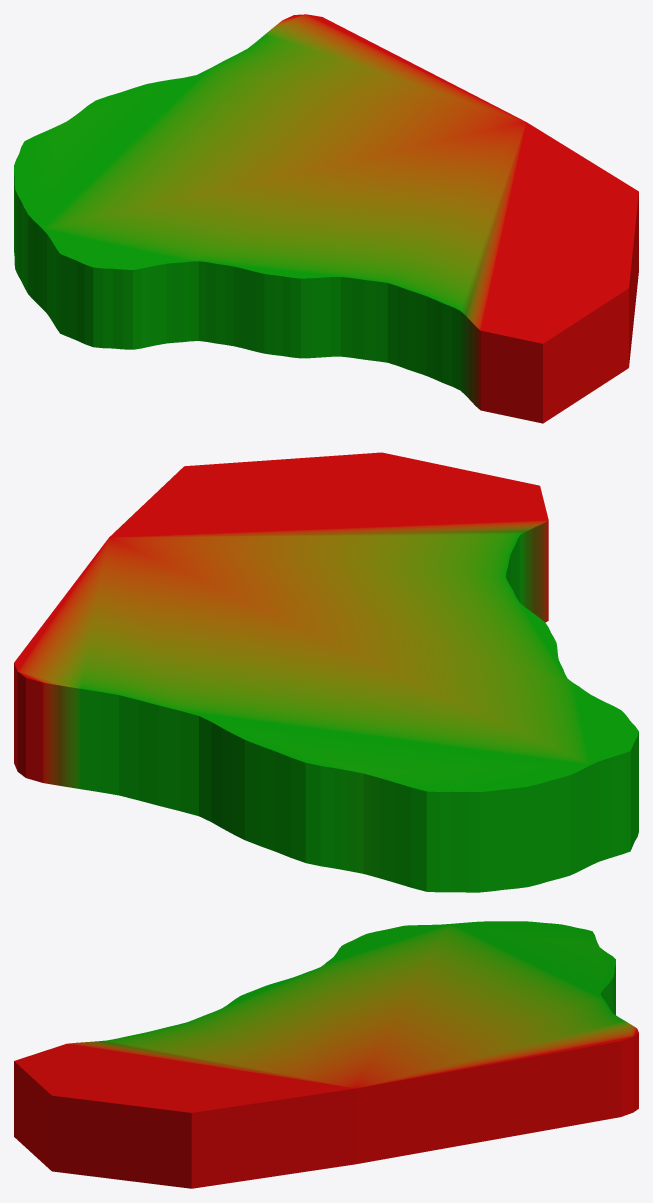
File: Spawn_Area_A.FBX
3 views of the same model, one above another, from view 1: azimuth 30°, elevation 25°; view 2: azimuth 150°, elevation 25°; view 3: azimuth 270°, elevation 25° (orthographic). The views are drawn at different scales.
Parts seen in each view (by area): view 1: Collision_Spawn_Area_A; view 2: Collision_Spawn_Area_A; view 3: Collision_Spawn_Area_A.
Part boxes in pixels (x1,y1,x2,y2): Collision_Spawn_Area_A: (14,14,638,423); Collision_Spawn_Area_A: (14,452,638,892); Collision_Spawn_Area_A: (14,921,638,1188).
Size of the model in its own units: 5187 by 1581 by 6330.
